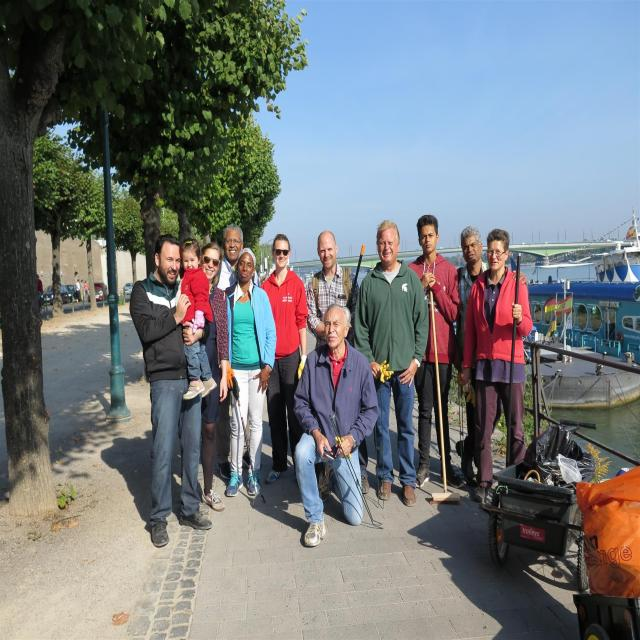body: (128, 232, 215, 550), (349, 216, 432, 509), (457, 227, 536, 506), (293, 302, 380, 547), (454, 225, 530, 484), (406, 213, 466, 489), (178, 241, 232, 518), (222, 245, 278, 500), (212, 222, 264, 481), (259, 232, 309, 484), (94, 413, 184, 533), (304, 230, 362, 352), (174, 237, 217, 401), (36, 274, 44, 312), (75, 279, 82, 302), (83, 280, 89, 300), (80, 279, 85, 302)
